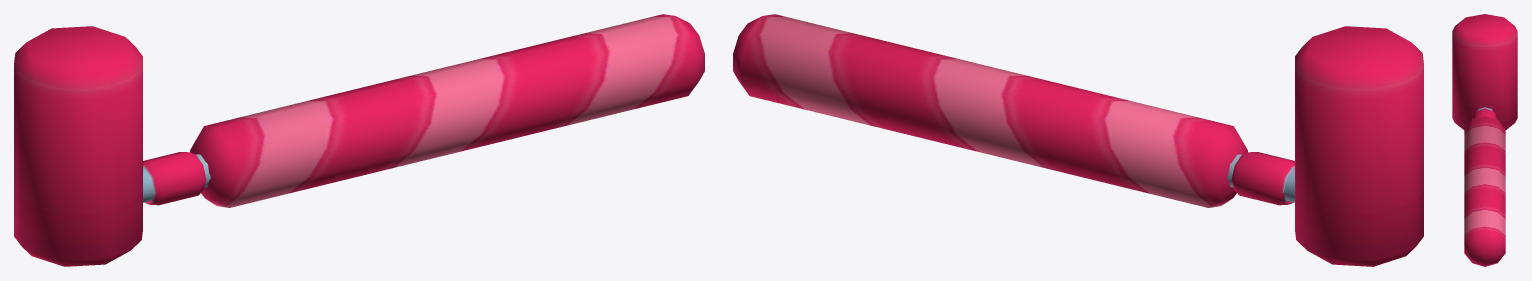
The model's file is aleronrosa1.fbx.
3 renders of one model, left to right at view 1: azimuth 30°, elevation 25°; view 2: azimuth 150°, elevation 25°; view 3: azimuth 270°, elevation 25°, orthographic. The views are drawn at different scales.
Visible parts, largest first — view 1: PaddleSmall.003_PaddleMaterial_0; view 2: PaddleSmall.003_PaddleMaterial_0; view 3: PaddleSmall.003_PaddleMaterial_0.
Part boxes in pixels (box(x1,y1,x2,y2)): PaddleSmall.003_PaddleMaterial_0: box(14, 14, 704, 266); PaddleSmall.003_PaddleMaterial_0: box(733, 14, 1423, 266); PaddleSmall.003_PaddleMaterial_0: box(1452, 14, 1517, 266).
Bounding box in the file's own units: 404 × 112 × 67.61.
1 material, 1 textured.
